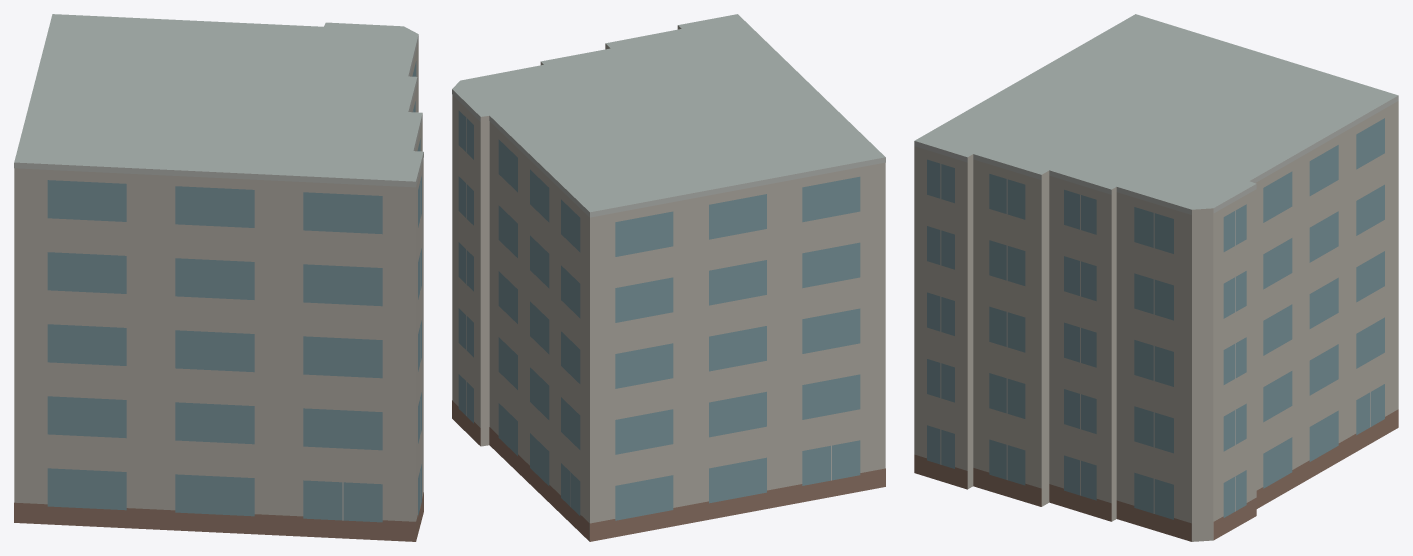
File: survey-upis-32676093.glb
The picture shows the model from 3 angles, left to right: view 1: azimuth 30°, elevation 25°; view 2: azimuth 150°, elevation 25°; view 3: azimuth 270°, elevation 25°; orthographic projection. The views are drawn at different scales.
Visible parts, largest first — view 1: survey-upis-32676093.tmp; view 2: survey-upis-32676093.tmp; view 3: survey-upis-32676093.tmp.
Boxes of the visible parts, x1,y1,x2,y2 form: survey-upis-32676093.tmp: (14, 14, 423, 541); survey-upis-32676093.tmp: (452, 14, 885, 541); survey-upis-32676093.tmp: (914, 14, 1398, 541).
Size of the model in its own units: 19.28 by 15.25 by 20.16.
